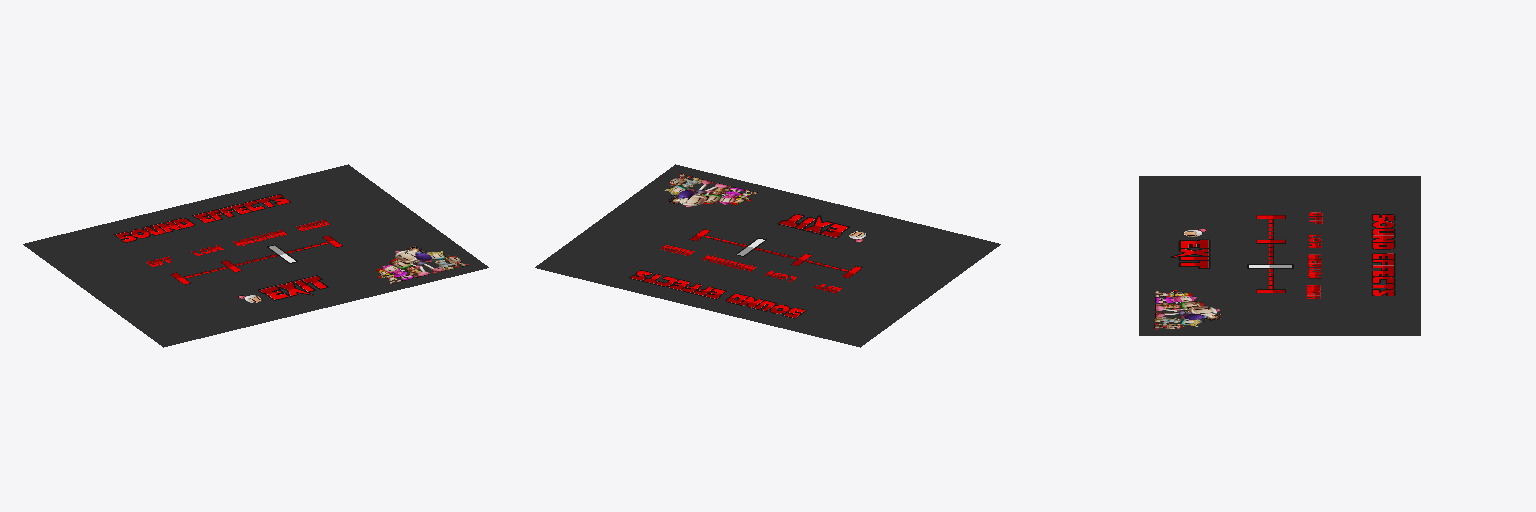
3 renders of one model, left to right at view 1: azimuth 30°, elevation 25°; view 2: azimuth 150°, elevation 25°; view 3: azimuth 270°, elevation 25°, orthographic.
Visible parts, largest first — view 1: Plane; view 2: Plane; view 3: Plane.
Boxes of the visible parts, box(x1,y1,x2,y2) form: Plane: box(23, 164, 488, 347); Plane: box(535, 164, 1000, 347); Plane: box(1139, 176, 1420, 335).
Bounding box in the file's own units: 16 × 0 × 12.
Materials: 1 (1 with a texture image).